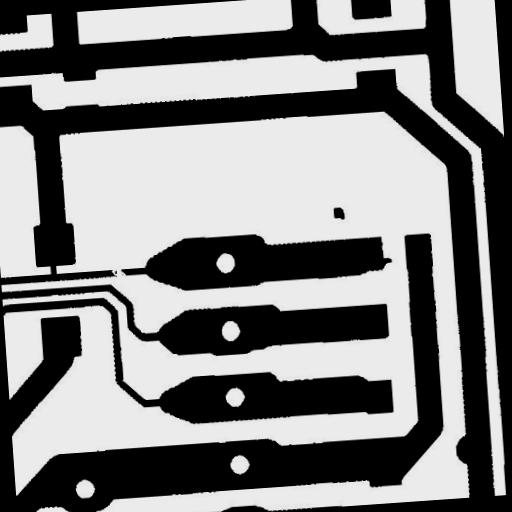copper: (325, 198, 352, 228)
open: (103, 256, 135, 290)
short: (42, 252, 65, 286)
spur: (371, 248, 400, 274)
